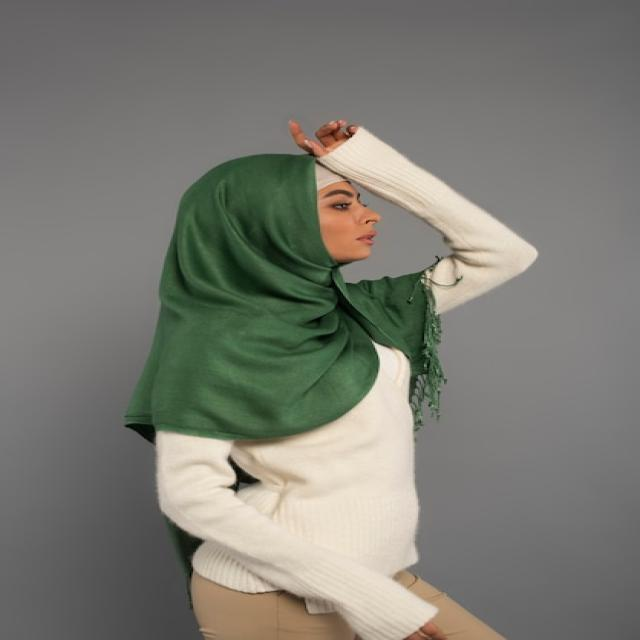Person: (126, 117, 539, 640)
